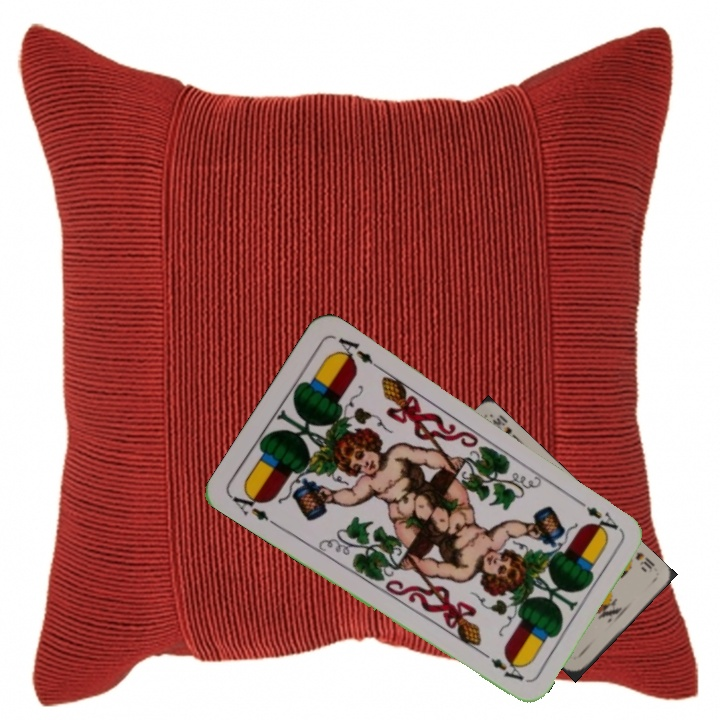EA: (227, 486, 280, 529), (570, 494, 621, 533)
S10: (631, 548, 657, 575)
